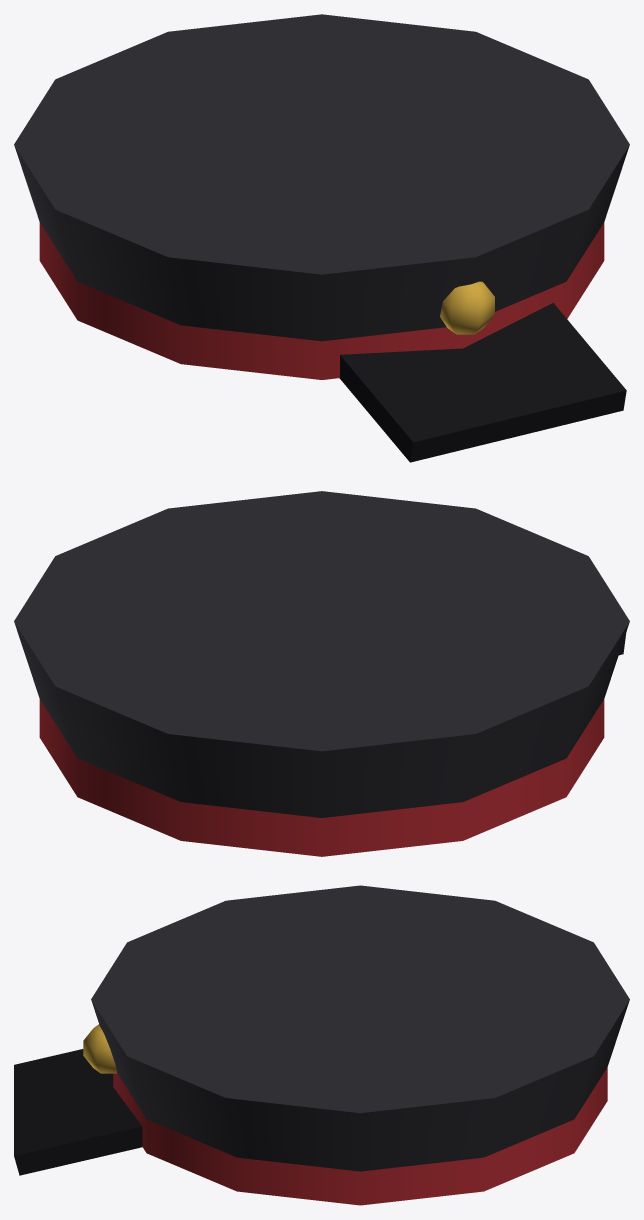
Rendered from cat-hat-4.glb.
The picture shows the model from 3 angles, top to bottom: view 1: azimuth 30°, elevation 25°; view 2: azimuth 150°, elevation 25°; view 3: azimuth 270°, elevation 25°; orthographic projection. The views are drawn at different scales.
Parts seen in each view (by area): view 1: 00_#2a2a30_r110, 02_#101014_r110, 01_#a3262c_noshadow_r110, 03_#c9a13a_r110; view 2: 00_#2a2a30_r110, 01_#a3262c_noshadow_r110; view 3: 00_#2a2a30_r110, 01_#a3262c_noshadow_r110, 02_#101014_r110, 03_#c9a13a_r110.
Part boxes in pixels (x1,y1,x2,y2): 00_#2a2a30_r110: (14,14,629,341); 02_#101014_r110: (339,303,626,462); 01_#a3262c_noshadow_r110: (39,222,604,379); 03_#c9a13a_r110: (440,281,494,334); 00_#2a2a30_r110: (14,491,629,817); 01_#a3262c_noshadow_r110: (39,699,604,856); 00_#2a2a30_r110: (91,885,629,1171); 01_#a3262c_noshadow_r110: (113,1067,607,1205); 02_#101014_r110: (14,1049,142,1175); 03_#c9a13a_r110: (83,1024,116,1073).
Bounding box in the file's own units: 0.6 × 0.1607 × 0.6858.
